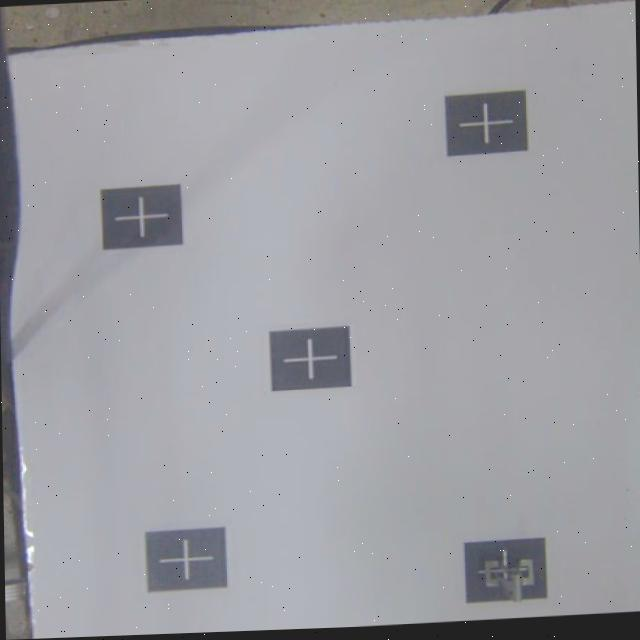pick4: (464, 532, 547, 602)
